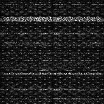lte: (1, 16, 104, 22), (1, 72, 104, 75)
